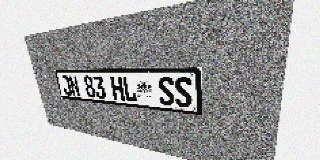3: (92, 76, 106, 99)
8: (83, 76, 96, 98)
H: (110, 76, 125, 101)
J: (60, 75, 72, 96)
L: (122, 76, 137, 102)
N: (68, 76, 81, 97)
S: (174, 77, 192, 108), (157, 77, 175, 106)
